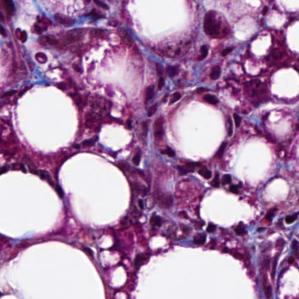inflammation: (174, 160, 244, 191), (196, 43, 237, 84), (262, 205, 299, 230)
